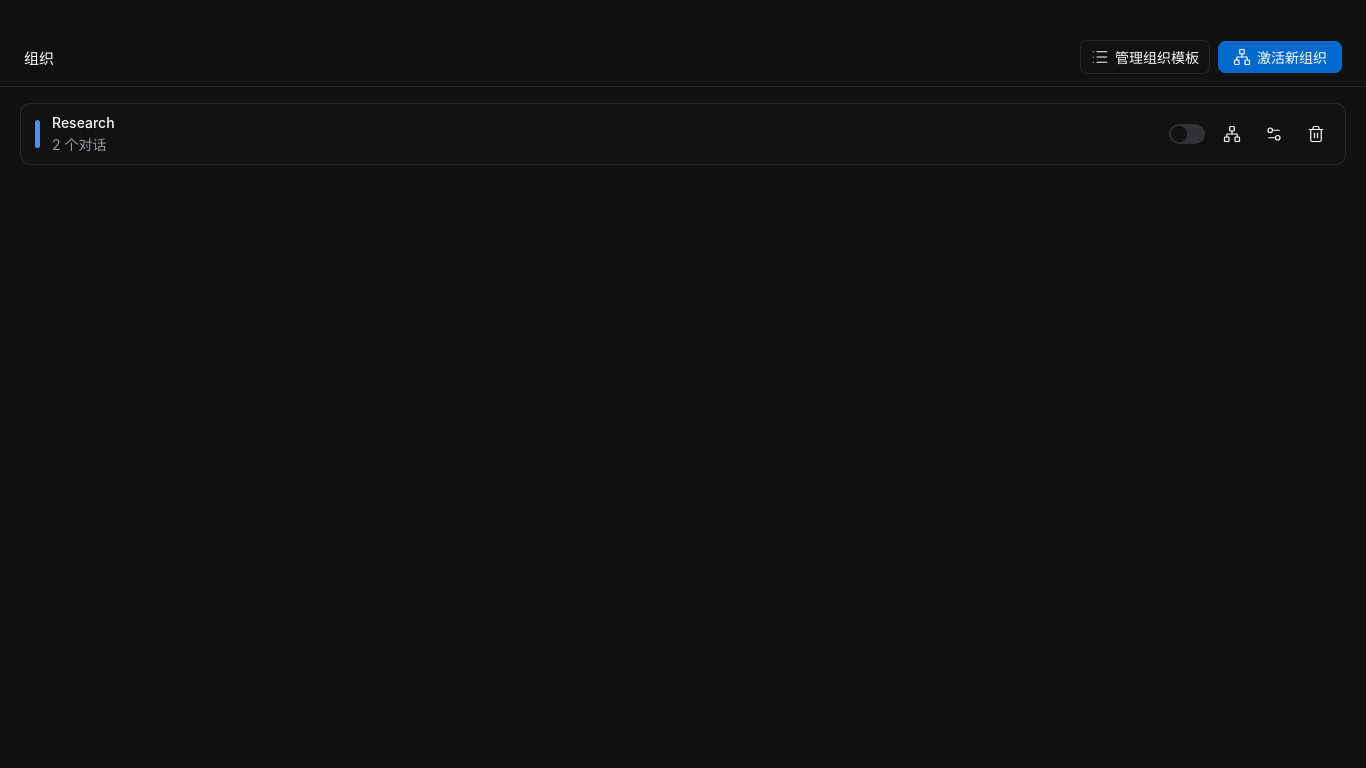
Scenario: global organization management › explains structured unavailable-model failures in zh-CN without changing organization state
What coordinates should you click on to do the following:
click the switch named "启用组织 Research"
I would click on:
 (1187, 134)
Its box is [1169,124,1205,144].
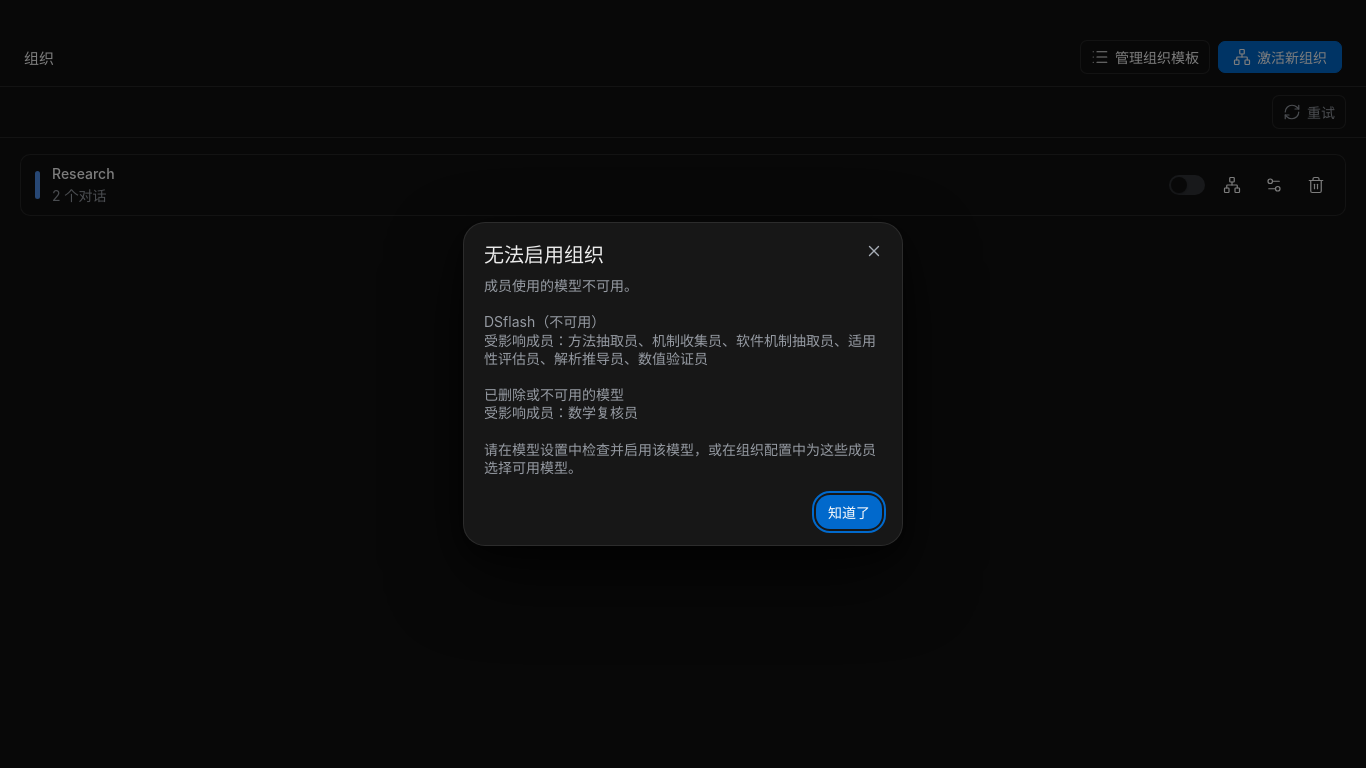
Result: the text "数学复核员" is shown at [484,277,876,476]
Result: the text "请在模型设置中检查并启用该模型，或在组织配置中为这些成员选择可用模型。" is shown at [484,277,876,476]
Result: the dialog "无法启用组织" is shown at [463,222,903,546]
What coordinates should you click on to do the following:
click the button "知道了"
I would click on:
 (849, 512)
Its box is [816,495,882,529].
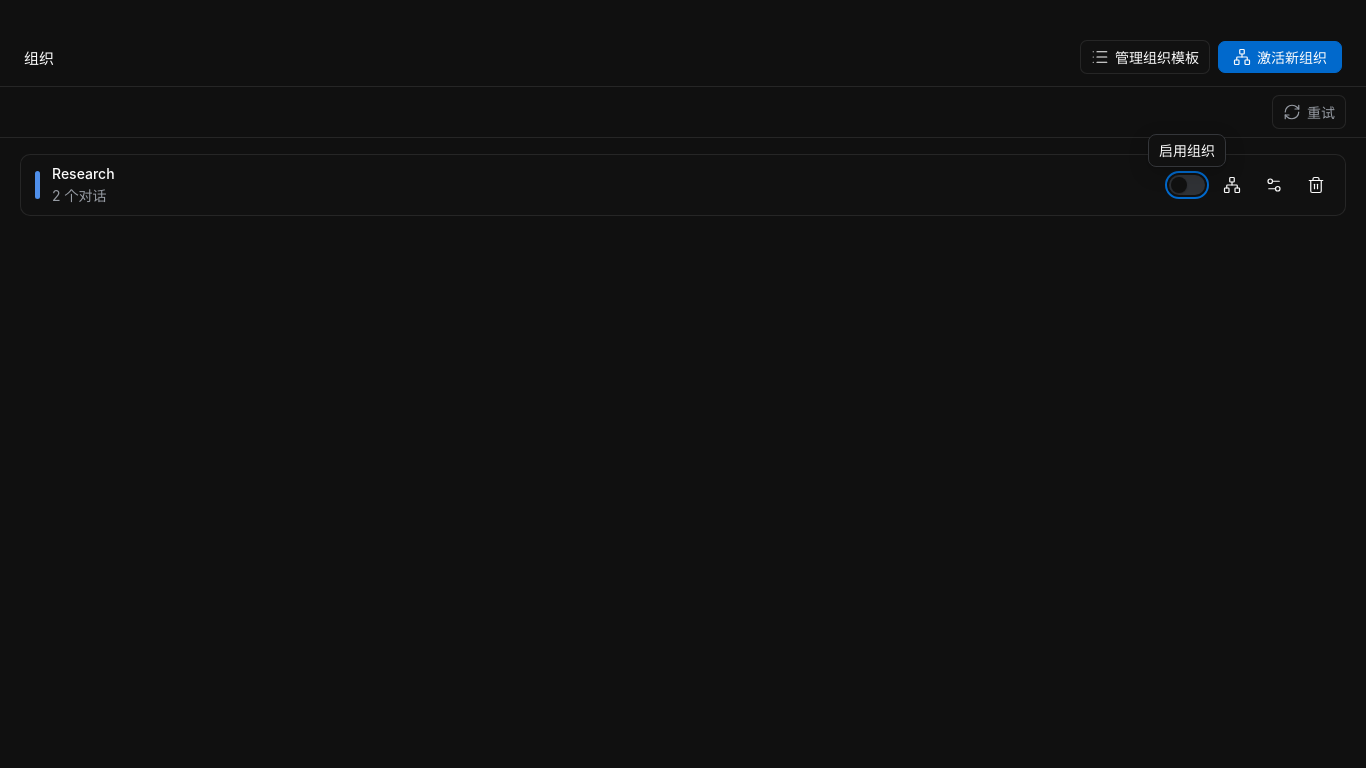
What coordinates should you click on to do the following:
click the switch named "启用组织 Research"
I would click on:
 (1187, 185)
Its box is [1169,175,1205,195].
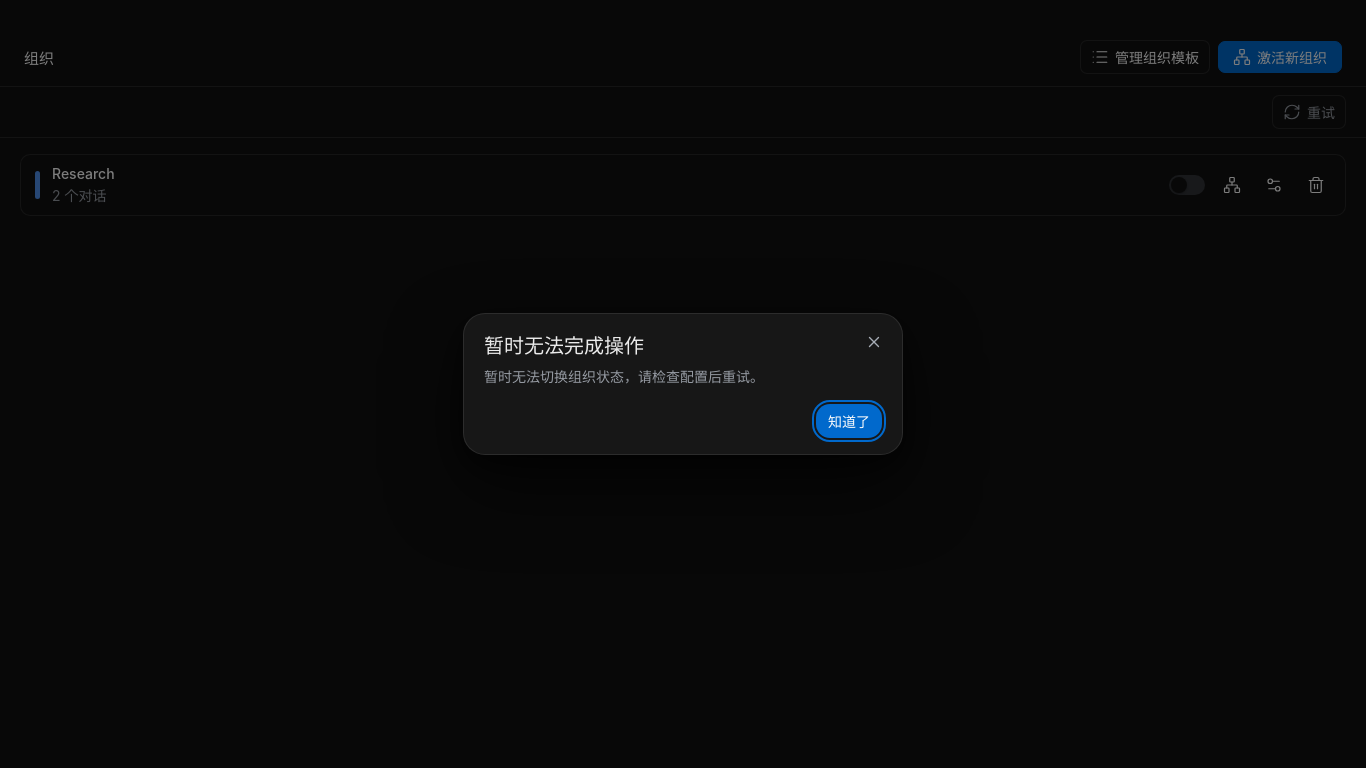
Expected: the text "暂时无法完成操作" does not show "DSflash"
Result: the dialog "暂时无法完成操作" shows "暂时无法切换组织状态，请检查配置后重试。" at [484,368,764,385]
